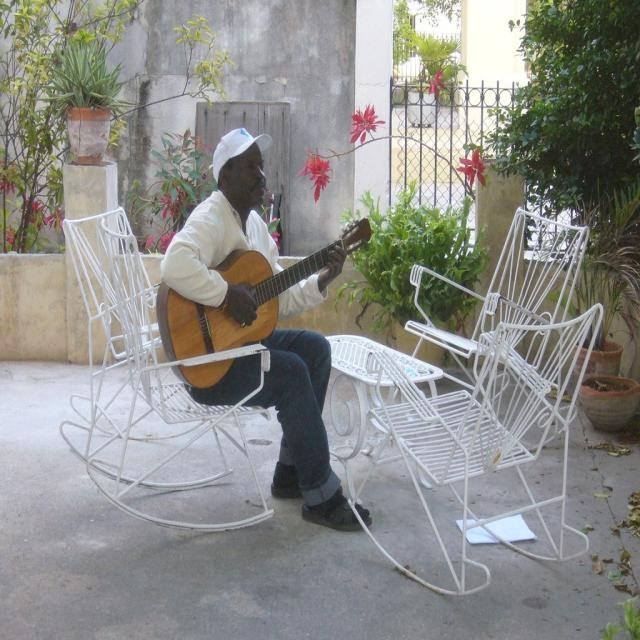guitar: (154, 216, 372, 388)
